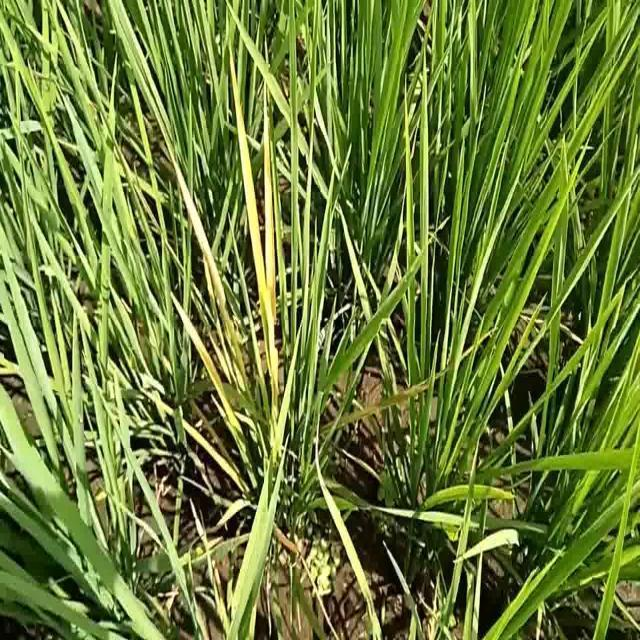Rice Tungro: (165, 134, 226, 314), (228, 42, 266, 288), (169, 288, 229, 413), (261, 83, 279, 299)
